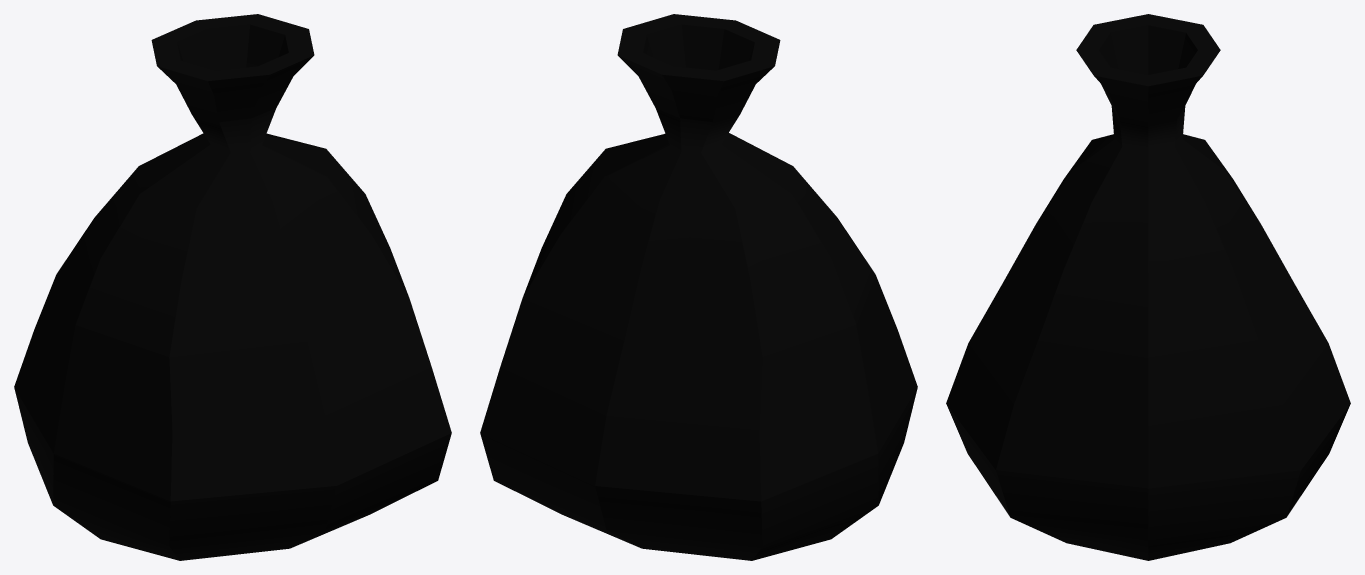
File: garbageBag.fbx
The picture shows the model from 3 angles, left to right: view 1: azimuth 30°, elevation 25°; view 2: azimuth 150°, elevation 25°; view 3: azimuth 270°, elevation 25°; orthographic projection. The views are drawn at different scales.
Visible parts, largest first — view 1: garbageBag:pCylinder1; view 2: garbageBag:pCylinder1; view 3: garbageBag:pCylinder1.
Part boxes in pixels (x1=…): garbageBag:pCylinder1: x1=14, y1=14, x2=451, y2=560; garbageBag:pCylinder1: x1=480, y1=14, x2=917, y2=560; garbageBag:pCylinder1: x1=946, y1=14, x2=1350, y2=560.
Size of the model in its own units: 228 by 278 by 228.
1 material, 1 textured.
